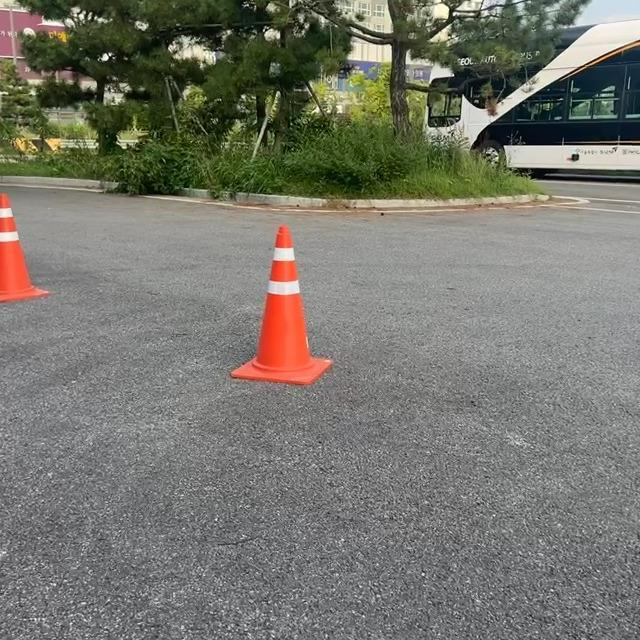fallen_object: (209, 196, 349, 420), (0, 186, 60, 355)
